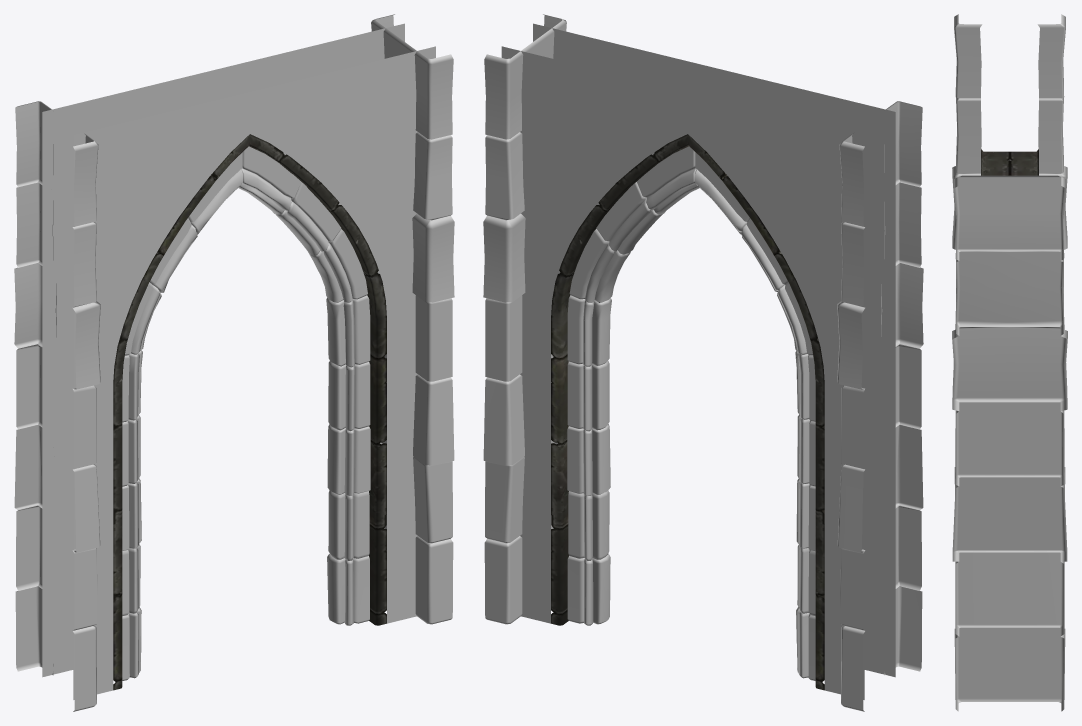
3 renders of one model, left to right at view 1: azimuth 30°, elevation 25°; view 2: azimuth 150°, elevation 25°; view 3: azimuth 270°, elevation 25°, orthographic. The views are drawn at different scales.
Parts seen in each view (by area): view 1: SM_Greathall_Int_Arch_01_LOD0; view 2: SM_Greathall_Int_Arch_01_LOD0; view 3: SM_Greathall_Int_Arch_01_LOD0.
Part boxes in pixels (x1,y1,x2,y2): SM_Greathall_Int_Arch_01_LOD0: [14, 14, 454, 711]; SM_Greathall_Int_Arch_01_LOD0: [483, 14, 923, 711]; SM_Greathall_Int_Arch_01_LOD0: [952, 14, 1067, 711].
Size of the model in its own units: 7 by 10 by 2.
